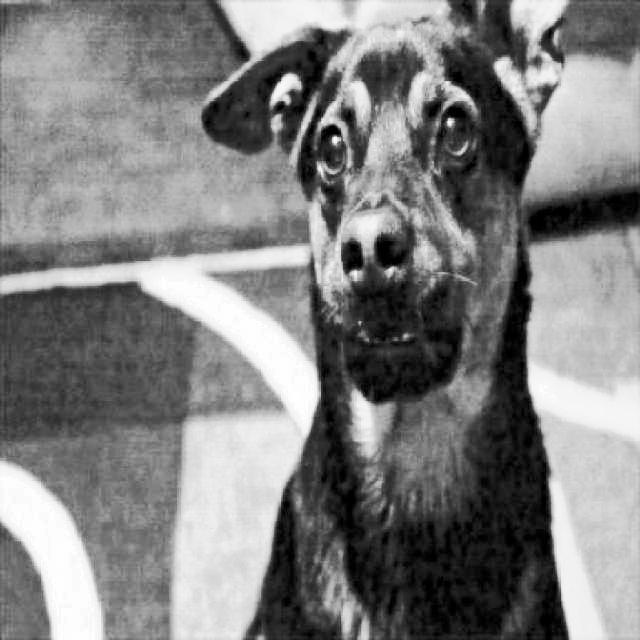Dog: (199, 0, 576, 640)
